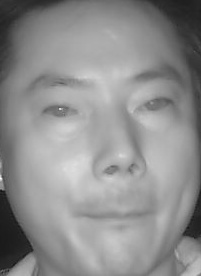eye: (35, 99, 82, 125), (131, 94, 175, 117)
mouth: (69, 191, 160, 237)
